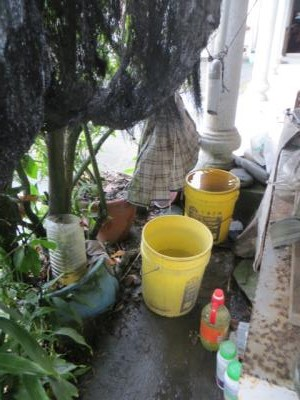bottle: (37, 209, 86, 290), (198, 286, 231, 356), (209, 337, 238, 391), (220, 357, 245, 399)
bucket: (136, 211, 215, 320), (181, 167, 240, 245)
